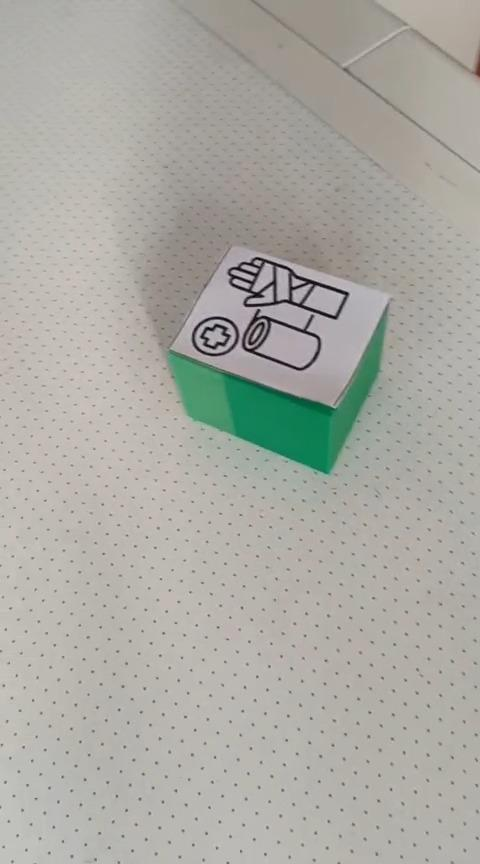Bandages: (165, 242, 392, 475)
